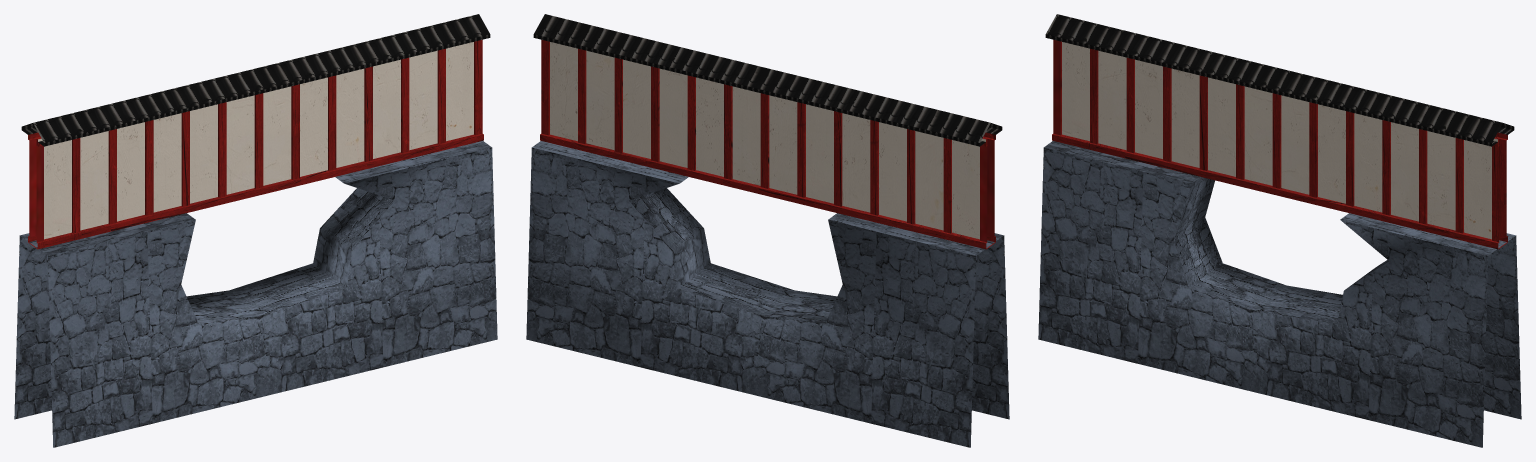
Rendered from WallHighJump.fbx.
The picture shows the model from 3 angles, left to right: view 1: azimuth 30°, elevation 25°; view 2: azimuth 150°, elevation 25°; view 3: azimuth 330°, elevation 25°; orthographic projection.
Parts seen in each view (by area): view 1: Cube_012, Cube_040, Cube_007, Cube_008; view 2: Cube_012, Cube_040, Cube_007, Cube_008; view 3: Cube_012, Cube_040, Cube_007, Cube_008.
Part boxes in pixels (bbox=[...]): Cube_012: bbox=[14, 141, 497, 447]; Cube_040: bbox=[38, 42, 473, 239]; Cube_007: bbox=[28, 39, 483, 249]; Cube_008: bbox=[21, 14, 490, 146]; Cube_012: bbox=[526, 141, 1009, 447]; Cube_040: bbox=[550, 42, 985, 239]; Cube_007: bbox=[540, 39, 995, 249]; Cube_008: bbox=[533, 14, 1002, 146]; Cube_012: bbox=[1038, 141, 1521, 447]; Cube_040: bbox=[1062, 42, 1497, 239]; Cube_007: bbox=[1052, 39, 1507, 249]; Cube_008: bbox=[1045, 14, 1514, 146].
Size of the model in its own units: 1148 by 765 by 173.
